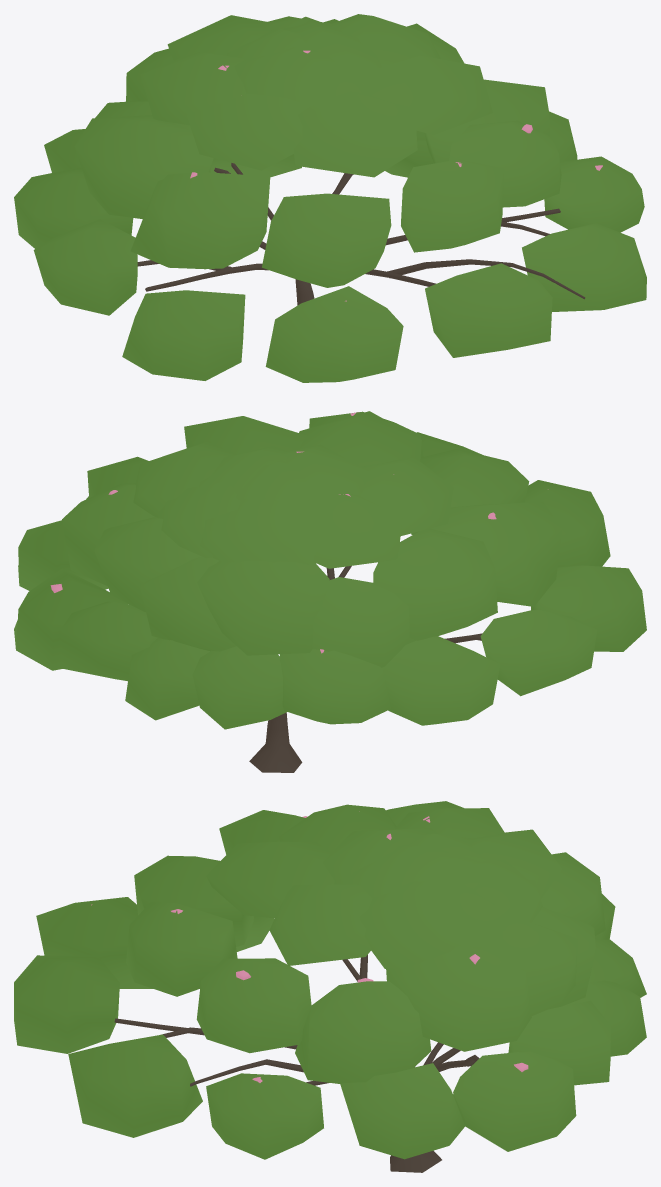
File: Blender_Monkeypod_2_Far.glb
The picture shows the model from 3 angles, top to bottom: view 1: azimuth 30°, elevation 25°; view 2: azimuth 150°, elevation 25°; view 3: azimuth 270°, elevation 25°; orthographic projection. The views are drawn at different scales.
Parts seen in each view (by area): view 1: Blender_Monkeypod_2_Far; view 2: Blender_Monkeypod_2_Far; view 3: Blender_Monkeypod_2_Far.
Part boxes in pixels (<box>): Blender_Monkeypod_2_Far: <box>14,14,646,382</box>; Blender_Monkeypod_2_Far: <box>14,411,646,772</box>; Blender_Monkeypod_2_Far: <box>14,801,646,1172</box>.
Size of the model in its own units: 29.17 by 16 by 28.14.
